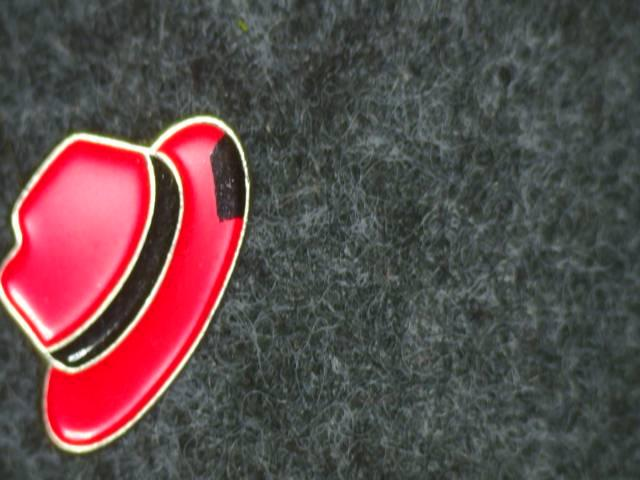Red-Hat: (0, 97, 272, 480)
Scratch: (199, 119, 251, 249)
